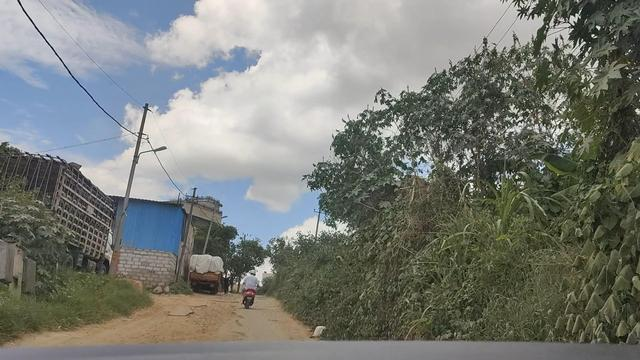HMV: (187, 253, 224, 296)
RoadDamages: (150, 305, 249, 339)
